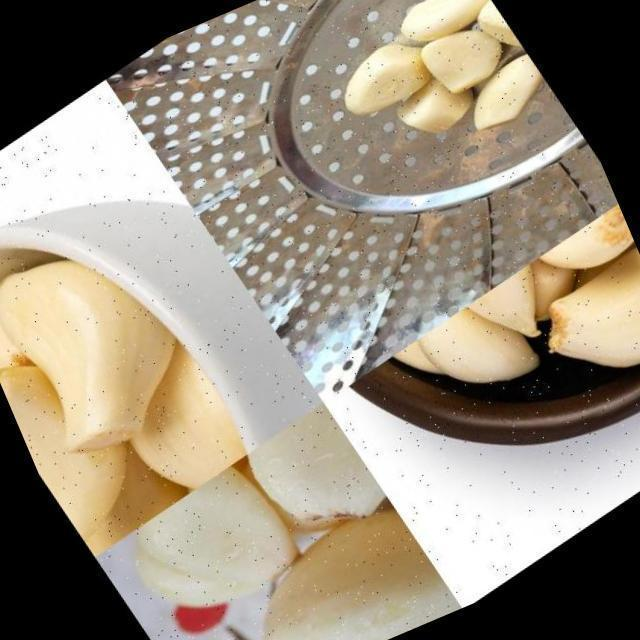garlic: (0, 185, 279, 562), (91, 383, 461, 640), (288, 0, 567, 208), (409, 273, 567, 427), (516, 244, 640, 411), (521, 202, 640, 307)
